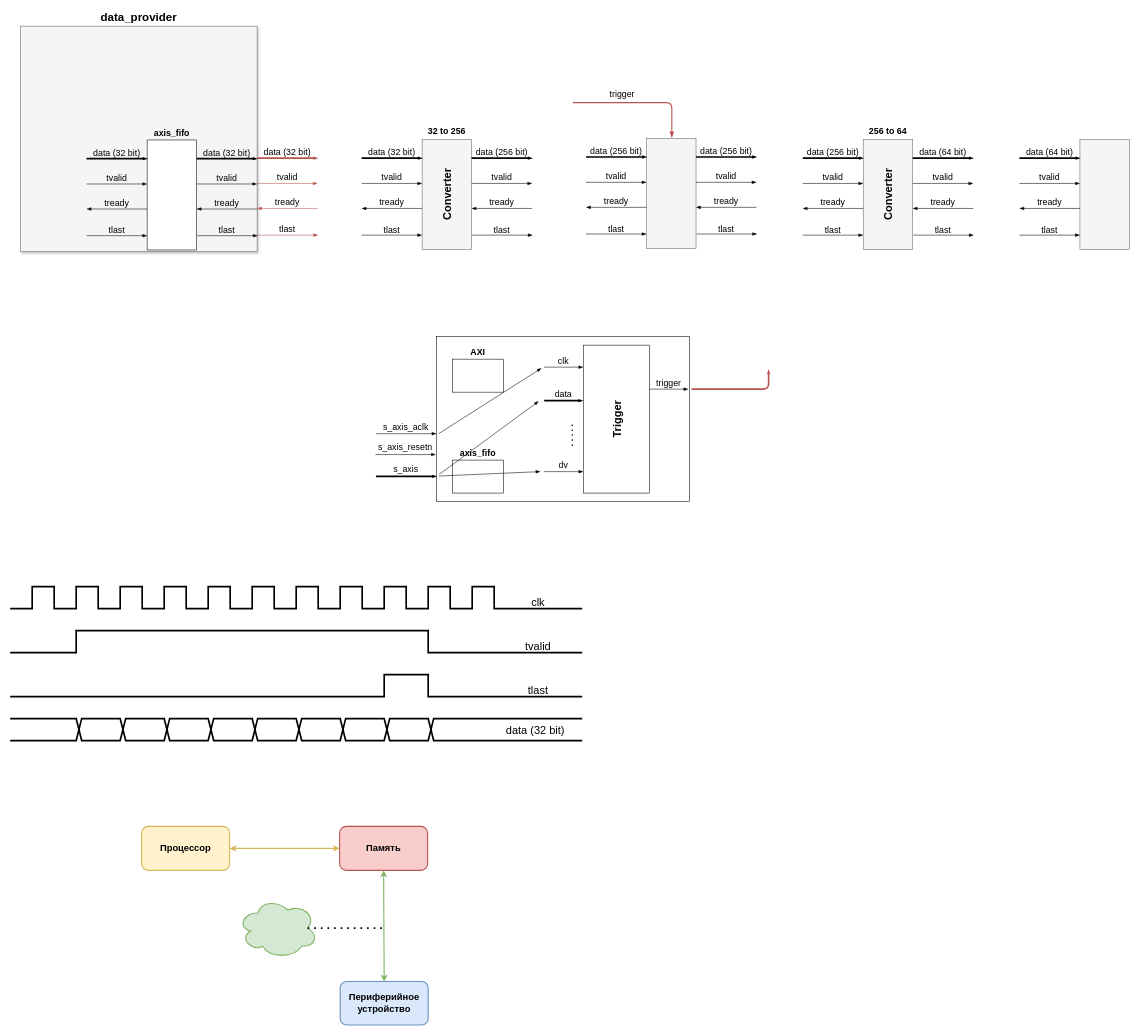
Image size: 1139x1035. Some labels were removed from this diagram. Here are the shapes that lost their labels. From the top down, the centre of each, then its label:
At (x=671, y=193): "Ring buffer".
At (x=1104, y=194): "DMA PL".
At (x=277, y=928): "Контроллер DMA".
